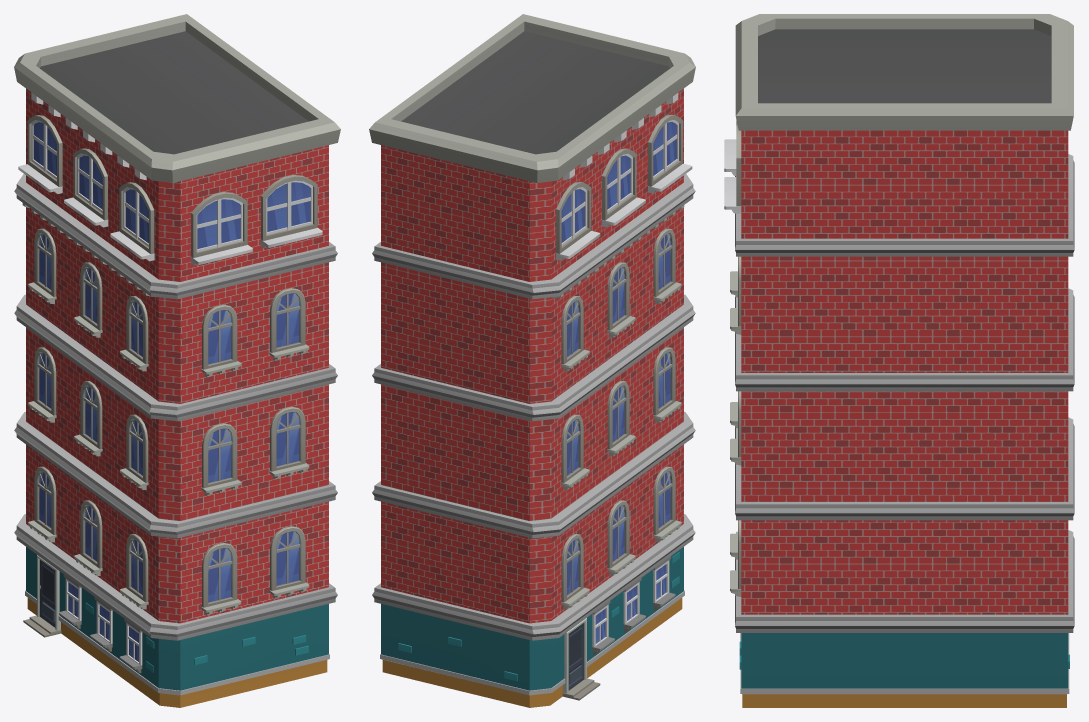
File: Building_18_1_M.glb
3 renders of one model, left to right at view 1: azimuth 30°, elevation 25°; view 2: azimuth 150°, elevation 25°; view 3: azimuth 270°, elevation 25°, orthographic. The views are drawn at different scales.
Visible parts, largest first — view 1: Building_18_1_M; view 2: Building_18_1_M; view 3: Building_18_1_M.
Part boxes in pixels (box(x1,y1,x2,y2)): Building_18_1_M: box(14, 14, 340, 707); Building_18_1_M: box(369, 14, 695, 707); Building_18_1_M: box(724, 14, 1074, 707).
Size of the model in its own units: 7.19 by 20.14 by 10.59.
Materials: 4 (4 with a texture image).
